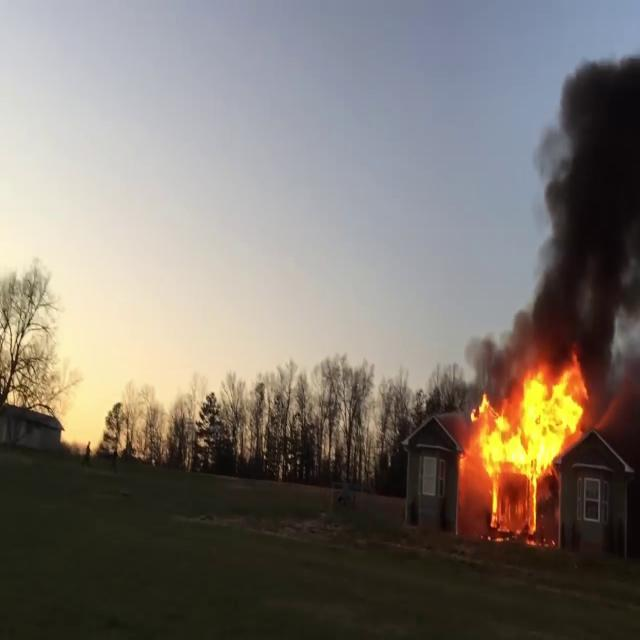Fire: (466, 359, 590, 533)
Smoke: (498, 14, 640, 375)
